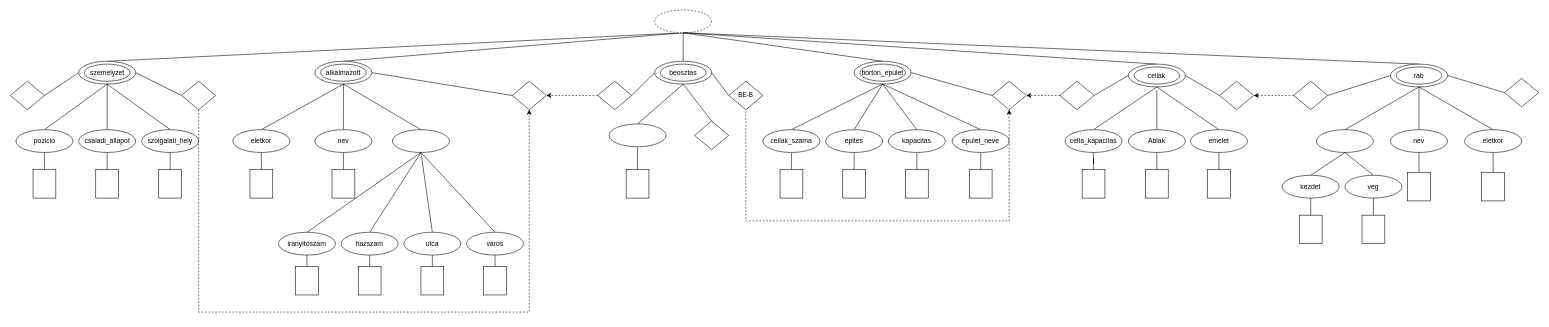
The diagram is 1549 pixels wide and 327 high, and some of its shapes have lost their labels. The shapes that lost their labels are listed below. From the top down, each one's centre as x and y in pixels, then its label:
At point 683,21: "MJ_Borton".
At point 27,95: "SZEM_ID".
At point 198,95: "SZ-A".
At point 529,95: "ALK_ID".
At point 614,95: "BE-A".
At point 1009,95: "BOR_ID".
At point 1076,95: "C-B".
At point 1236,95: "CEL_ID".
At point 1310,95: "R-C".
At point 1521,92: "RAB_ID".
At point 420,140: "lakhely".
At point 637,135: "muszak".
At point 711,135: "BE_ID".
At point 1344,140: "letoltendo".
